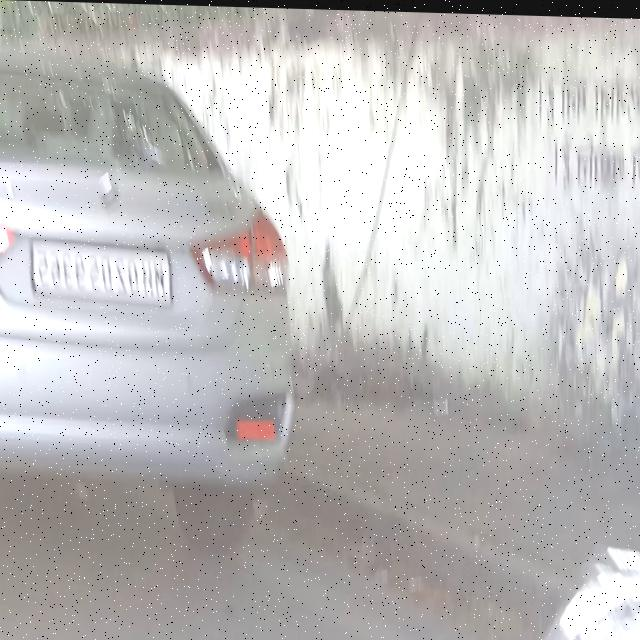plate: (22, 240, 180, 306)
